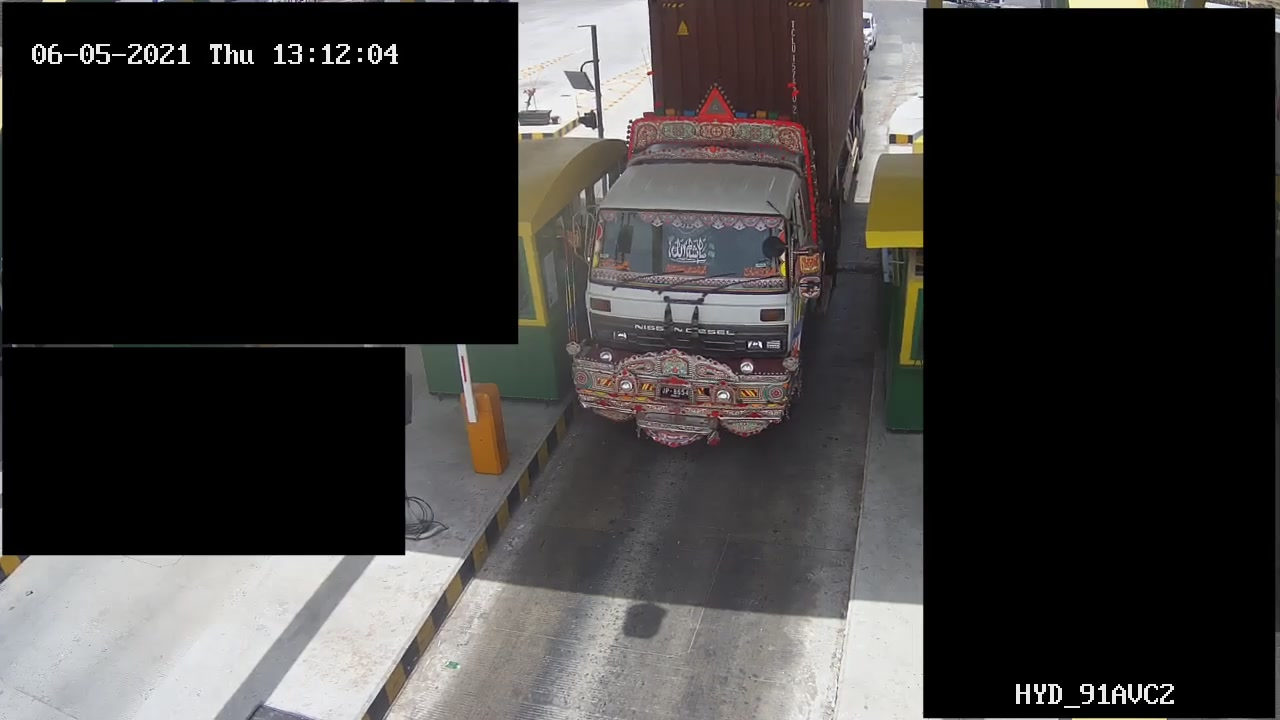F6: (573, 1, 869, 468)
